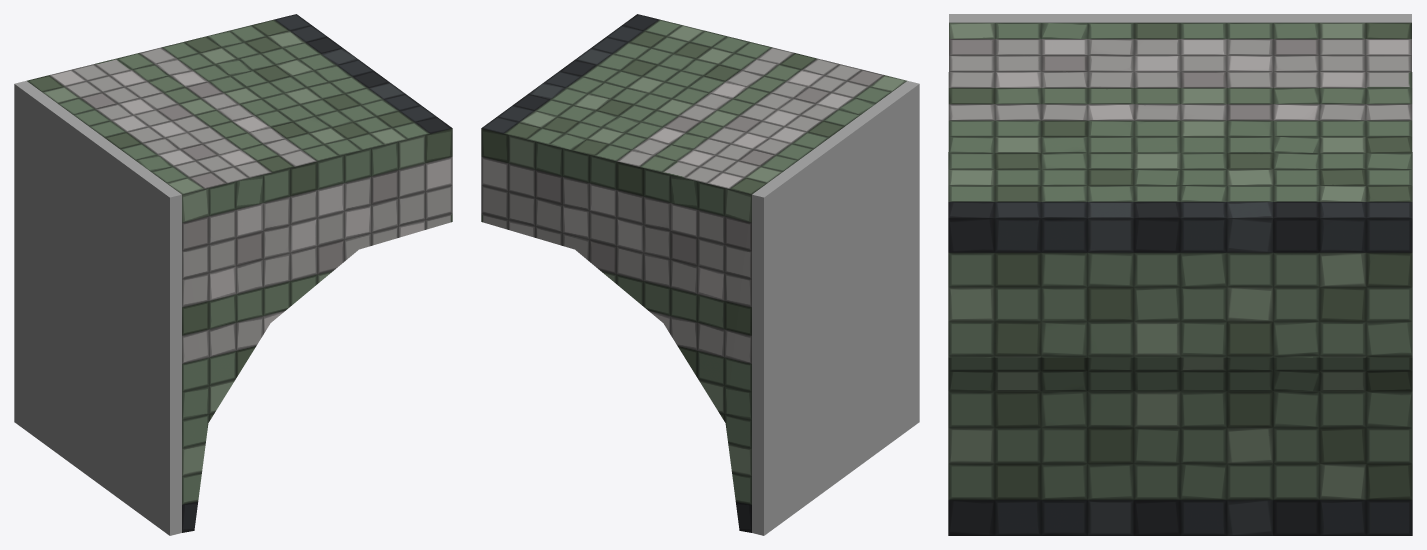
File: SM_Bld_Archway_Straight_01.fbx
3 renders of one model, left to right at view 1: azimuth 30°, elevation 25°; view 2: azimuth 150°, elevation 25°; view 3: azimuth 270°, elevation 25°, orthographic. The views are drawn at different scales.
Visible parts, largest first — view 1: SM_Bld_Archway_Straight_01; view 2: SM_Bld_Archway_Straight_01; view 3: SM_Bld_Archway_Straight_01.
Part boxes in pixels (x1=…): SM_Bld_Archway_Straight_01: x1=14, y1=14, x2=452, y2=535; SM_Bld_Archway_Straight_01: x1=481, y1=14, x2=919, y2=535; SM_Bld_Archway_Straight_01: x1=948, y1=14, x2=1412, y2=535.
Size of the model in its own units: 261 by 300 by 250.
